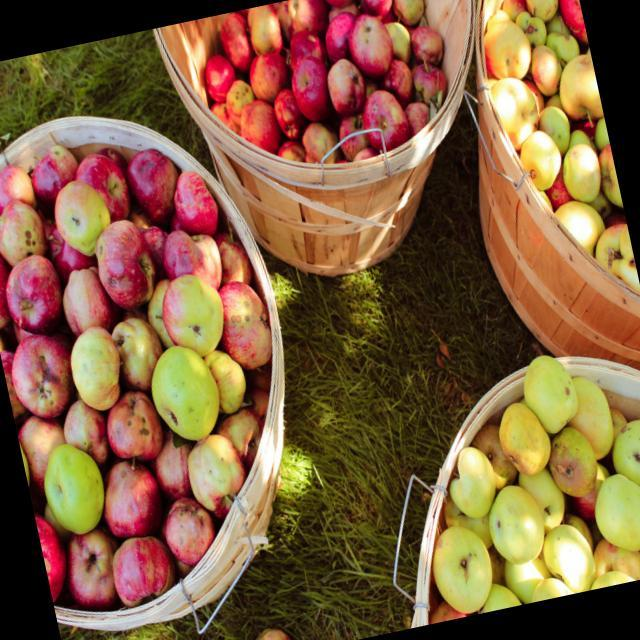APPLE: (143, 338, 226, 443), (38, 440, 112, 534), (92, 214, 164, 310), (161, 272, 232, 358), (106, 522, 174, 610), (53, 524, 119, 609), (6, 330, 74, 412), (72, 146, 140, 228), (66, 327, 131, 408), (96, 456, 160, 534), (0, 251, 63, 330), (162, 495, 218, 562), (56, 269, 110, 332)
